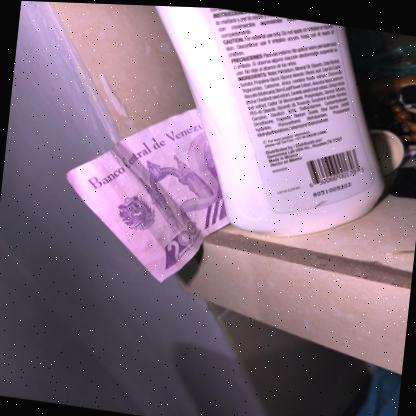one_hundred-back-vef: (54, 87, 242, 291)
